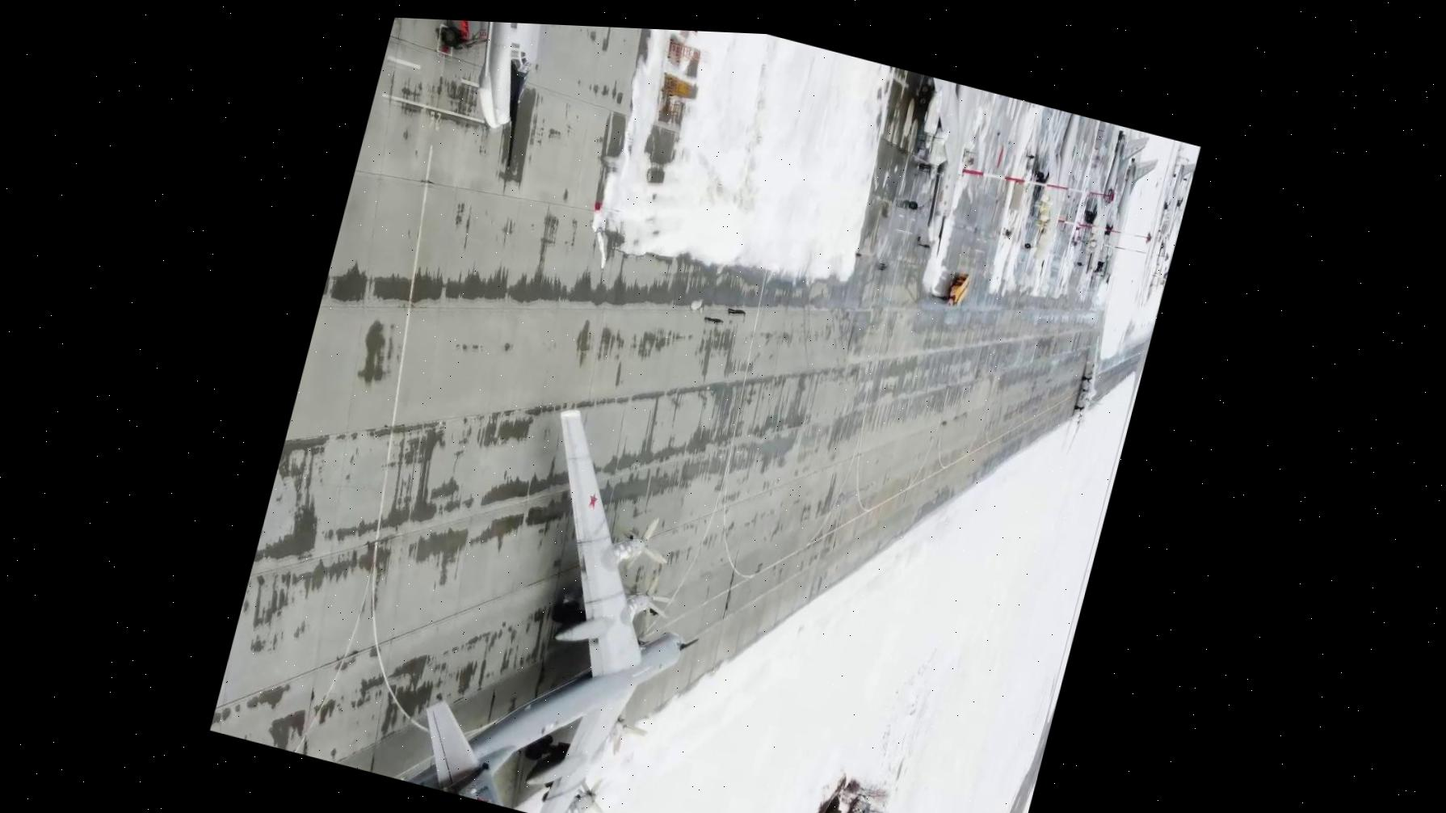person: (724, 304, 746, 321), (701, 313, 725, 328)
plane: (399, 385, 750, 813), (361, 16, 658, 201), (855, 67, 1010, 267), (1010, 107, 1110, 288), (1073, 125, 1151, 284), (1092, 150, 1158, 297), (1061, 332, 1119, 461)
